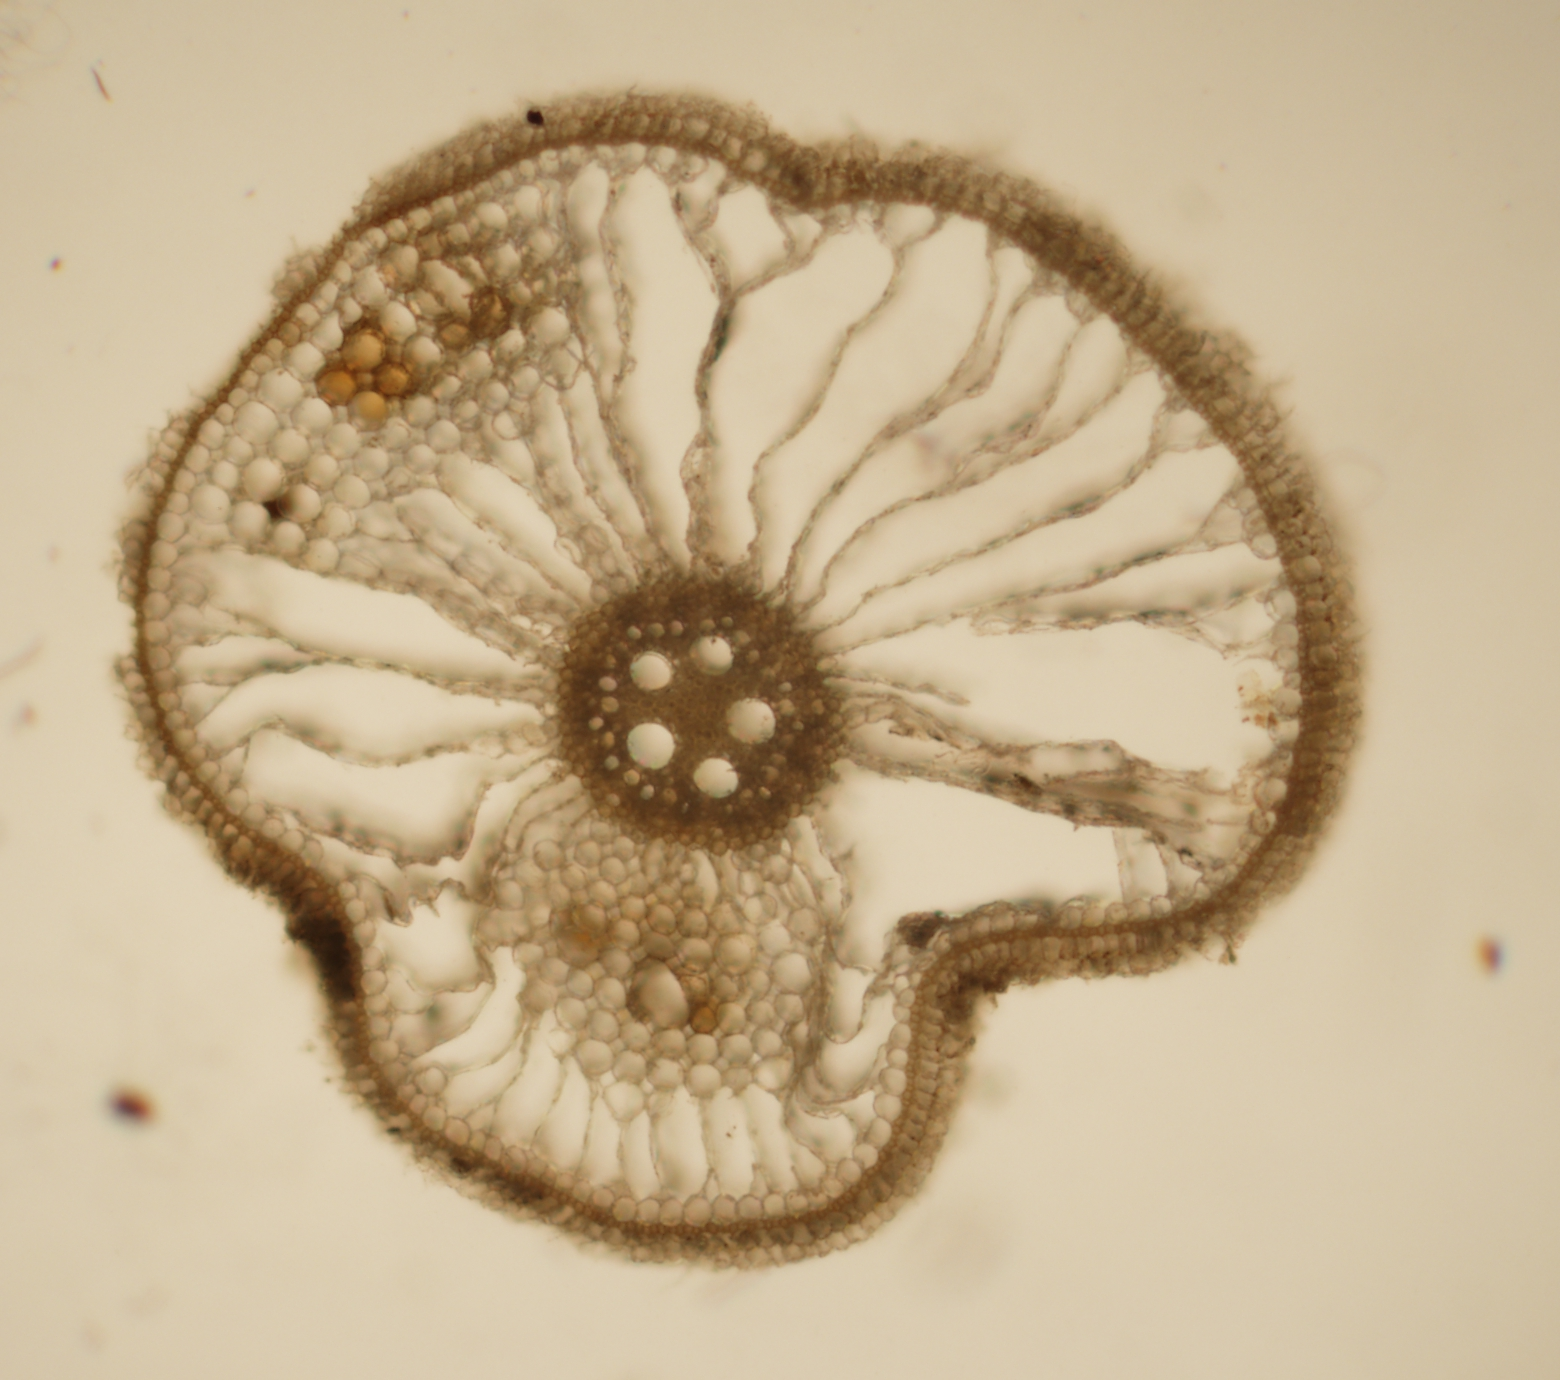lm: (726, 697, 775, 743), (626, 723, 675, 769), (629, 650, 673, 693), (689, 635, 734, 675), (693, 758, 738, 798)
